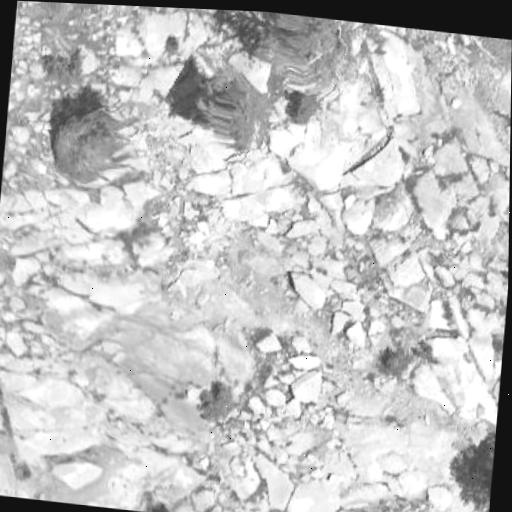tree-top: (40, 94, 140, 187), (191, 63, 279, 153)
